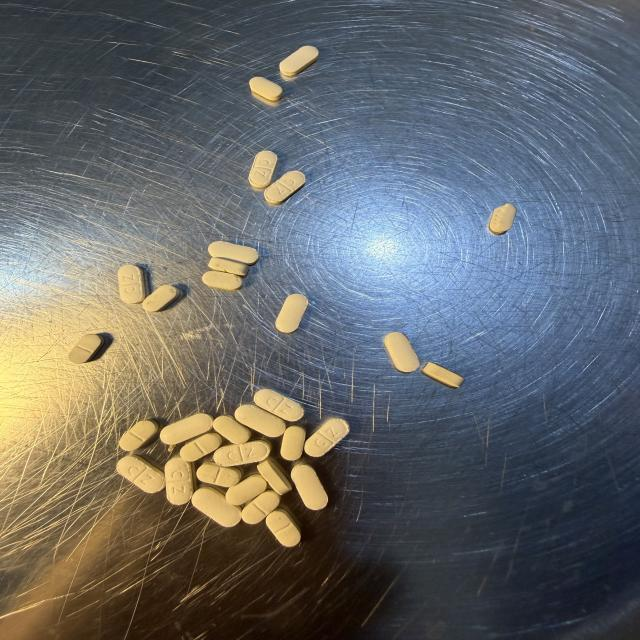pill: (192, 487, 241, 527), (117, 455, 165, 493), (305, 418, 349, 457), (292, 463, 328, 509), (235, 405, 285, 437), (160, 414, 213, 444), (254, 389, 303, 421), (213, 440, 271, 467), (264, 170, 306, 205), (384, 332, 419, 372), (165, 457, 194, 504), (242, 490, 280, 524), (266, 509, 300, 546), (276, 294, 308, 333), (119, 420, 159, 451), (226, 474, 266, 505), (258, 458, 291, 495), (180, 432, 222, 461), (279, 46, 319, 76), (209, 241, 258, 265), (213, 415, 251, 444), (197, 462, 241, 487), (118, 265, 146, 304), (249, 150, 277, 188), (422, 363, 464, 388), (69, 334, 104, 363), (142, 285, 179, 312), (281, 426, 305, 461), (489, 204, 516, 234), (250, 77, 282, 101), (202, 271, 242, 290), (209, 258, 249, 276)
